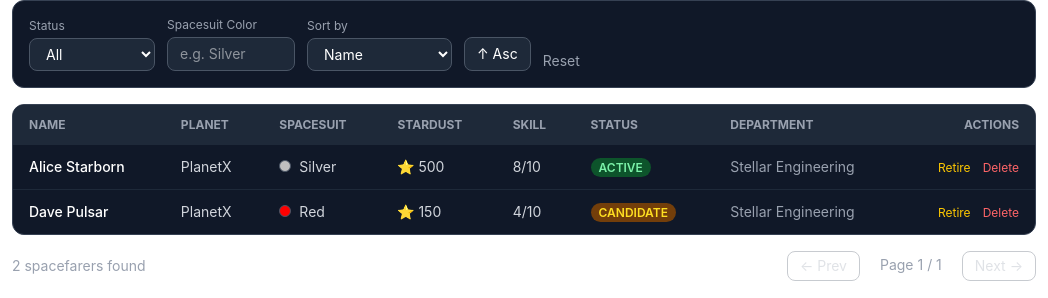
SpacefarerList — additional coverage › toggles sort direction back to Asc after being set to Desc
The width and height of the screenshot is (1048, 298).
Click the button "↑ Asc": (498, 54) [464,37,531,71]
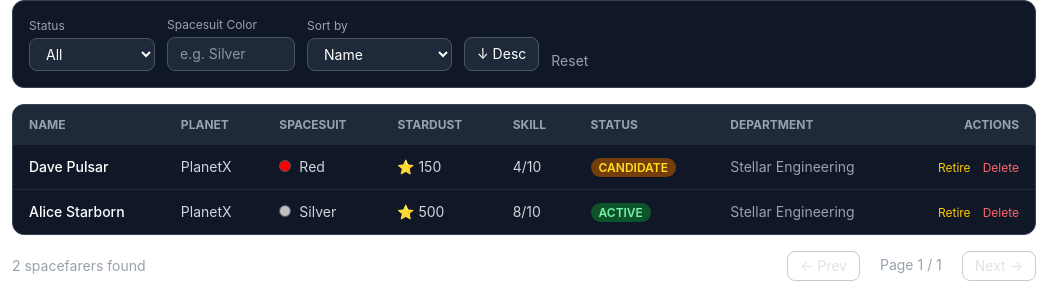
Click the button "↓ Desc": (502, 54) [464,37,539,71]
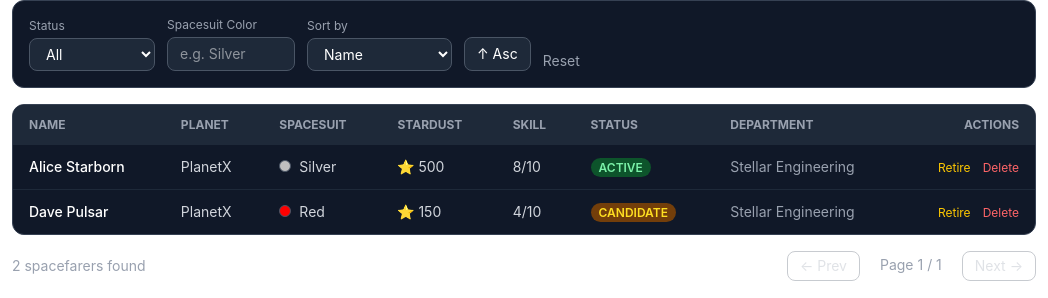
Check: the button "↑ Asc" is shown, box [464,37,531,71]
